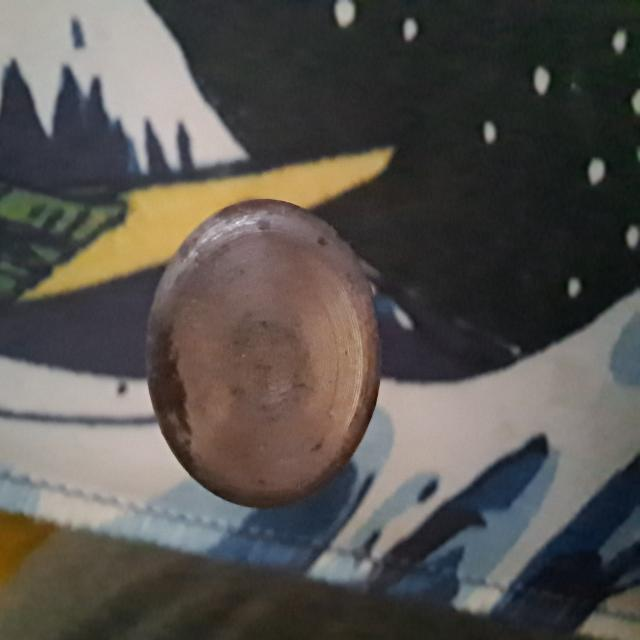planson: (146, 197, 381, 508)
